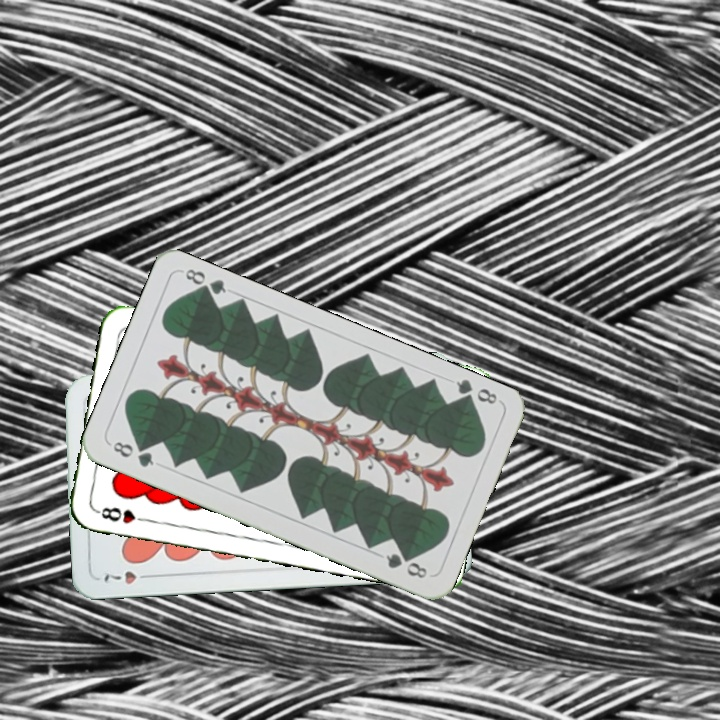G8: (452, 375, 500, 410), (109, 437, 157, 470)
H7: (100, 567, 156, 587)
H8: (93, 503, 152, 526)
